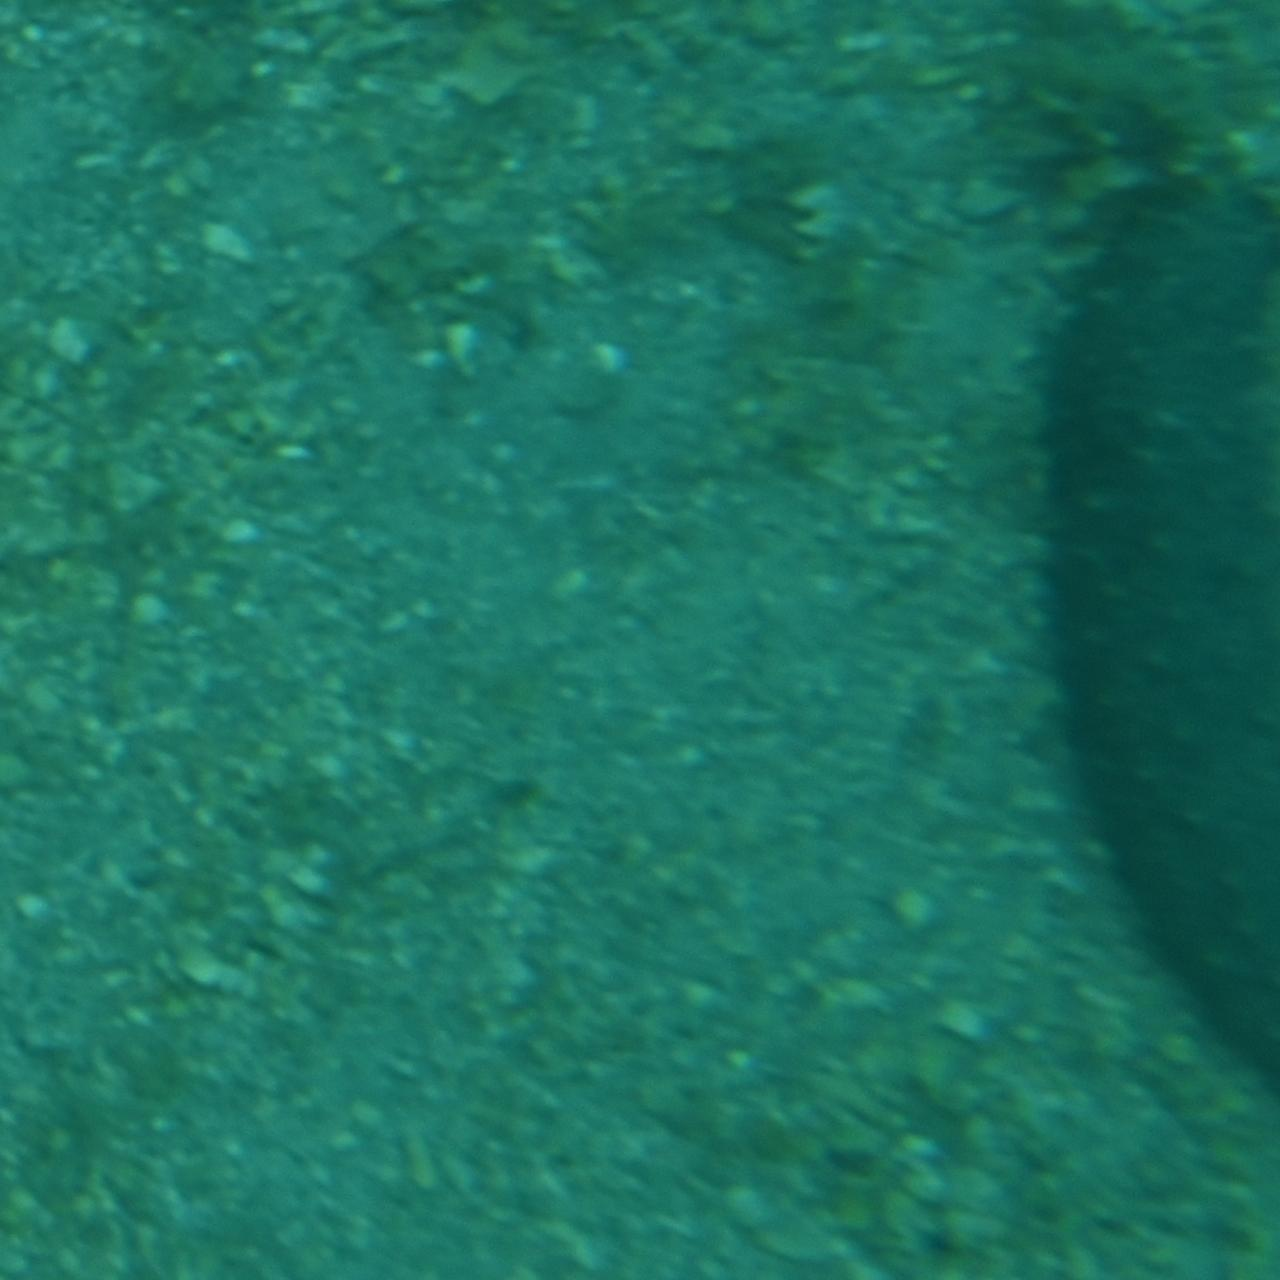Holothuria tubulosa: (1034, 96, 1279, 1184)
